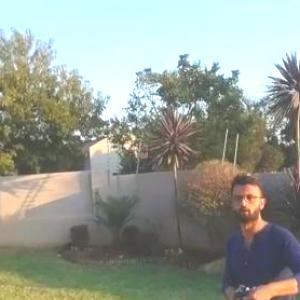follow: (217, 160, 300, 299)
